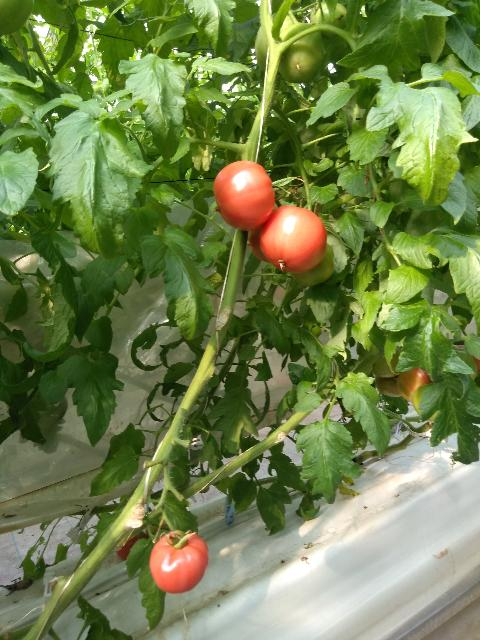b_fully_ripened: (259, 205, 328, 274), (213, 160, 275, 232), (149, 529, 209, 594)
b_green: (273, 23, 327, 84), (255, 12, 299, 73), (289, 243, 335, 287), (315, 2, 348, 40)
